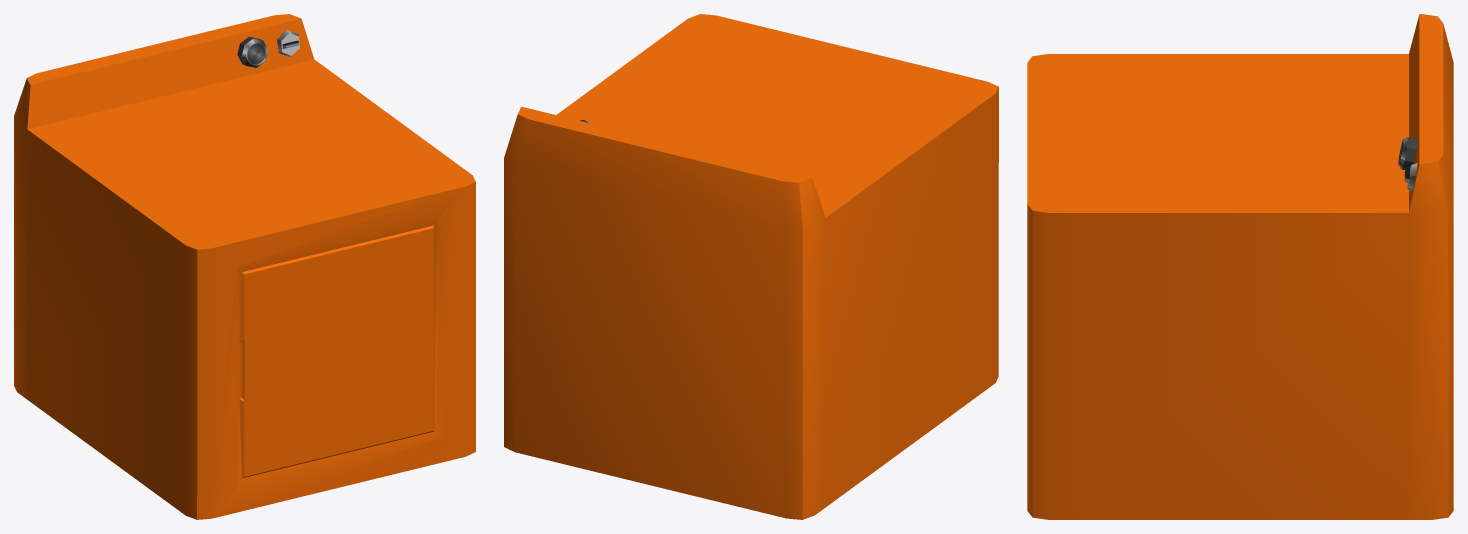
The model's file is Dryer_04.FBX.
3 renders of one model, left to right at view 1: azimuth 30°, elevation 25°; view 2: azimuth 150°, elevation 25°; view 3: azimuth 270°, elevation 25°, orthographic. The views are drawn at different scales.
Visible parts, largest first — view 1: Dryer; view 2: Dryer; view 3: Dryer.
Boxes of the visible parts, x1=… form: Dryer: x1=14, y1=14, x2=475, y2=519; Dryer: x1=504, y1=14, x2=998, y2=519; Dryer: x1=1027, y1=14, x2=1453, y2=519.
Bounding box in the file's own units: 150 × 155 × 170.
